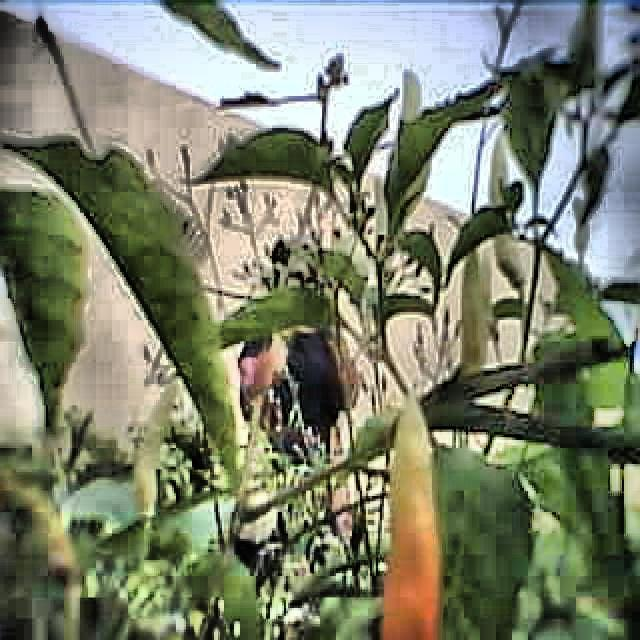Cabai: (378, 390, 455, 640)
